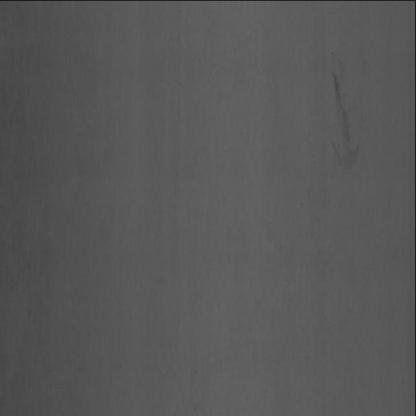water_spot: (315, 58, 362, 175)
